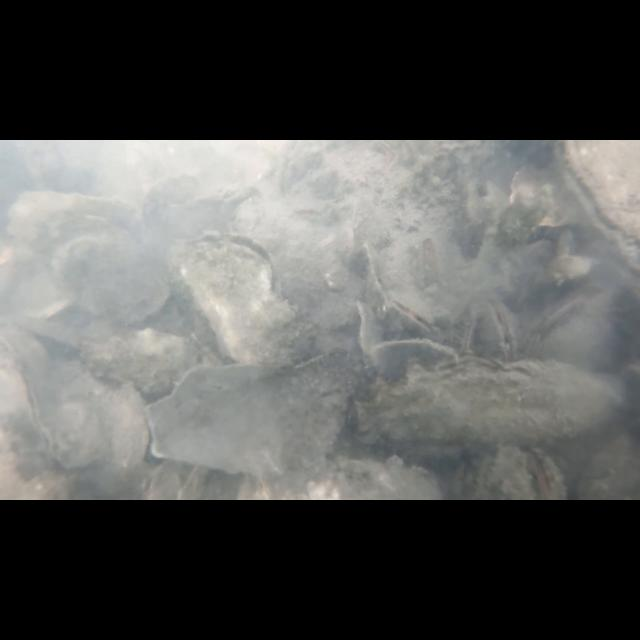Oyster-Closed: (144, 348, 366, 478), (354, 356, 626, 456), (5, 192, 169, 321), (0, 335, 104, 469), (76, 328, 204, 394), (369, 338, 458, 382)
Oyster-Open: (170, 234, 316, 364), (554, 140, 640, 270), (364, 241, 444, 343), (482, 444, 566, 500), (473, 296, 519, 362)
